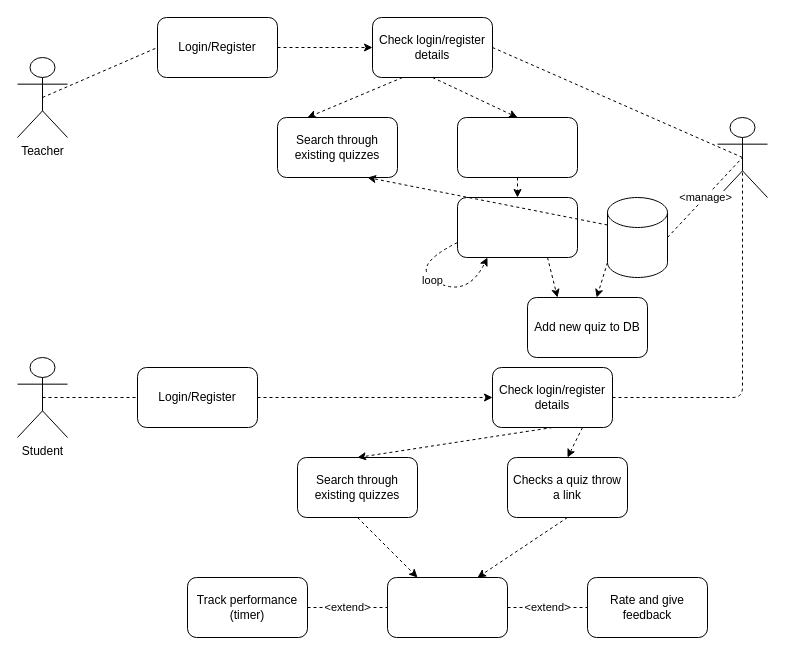
This 785x655 diagram has some shape labels left out. The shapes that lost their labels are listed below. From the top down, each one's centre as x and y in pixels, then its label:
At [517,147]: "Create quiz".
At [742,157]: "Website".
At [517,227]: "Add question to quiz".
At [637,237]: "DB".
At [447,607]: "Play".
